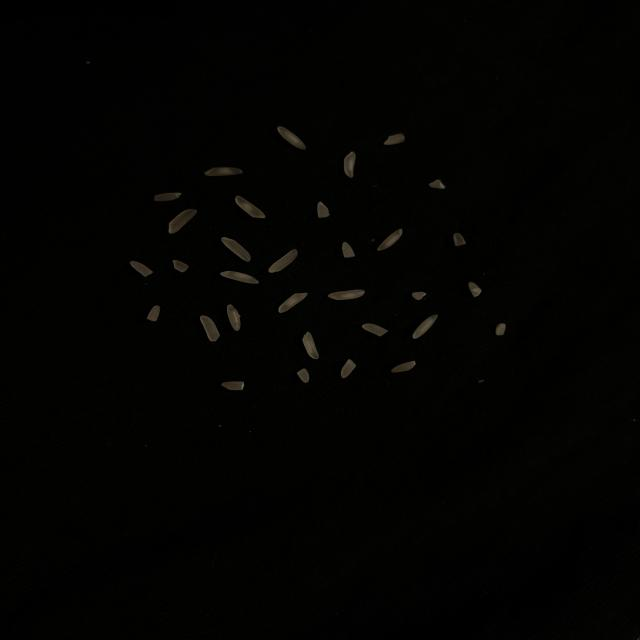Broken: (361, 322, 388, 337), (130, 261, 154, 277), (392, 360, 416, 372), (383, 134, 405, 146), (219, 381, 245, 391), (342, 360, 356, 378), (467, 282, 482, 298), (172, 258, 188, 272), (340, 242, 354, 258), (148, 304, 160, 322), (318, 202, 330, 218), (453, 232, 466, 246), (298, 368, 310, 383), (428, 179, 444, 189), (495, 324, 507, 336), (412, 292, 426, 300)
Full: (222, 236, 252, 262), (167, 209, 197, 235), (268, 249, 299, 273), (236, 195, 266, 219), (276, 126, 306, 149), (412, 313, 438, 339), (278, 293, 308, 313), (199, 316, 221, 341), (220, 270, 258, 284), (378, 228, 402, 250), (302, 332, 320, 359), (328, 288, 364, 300), (343, 151, 357, 179), (227, 305, 242, 331), (205, 167, 242, 177), (153, 192, 181, 202)
